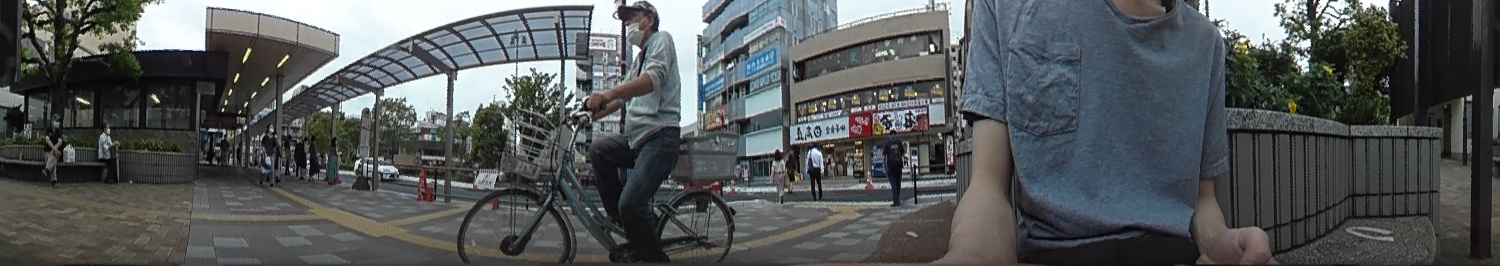difficult_person: (305, 133, 323, 181), (325, 132, 341, 185), (294, 136, 308, 172), (219, 132, 232, 164)
person: (580, 2, 694, 262), (882, 126, 908, 209), (95, 119, 122, 185), (44, 108, 66, 179), (804, 141, 827, 201), (259, 123, 279, 188), (771, 148, 790, 201)
